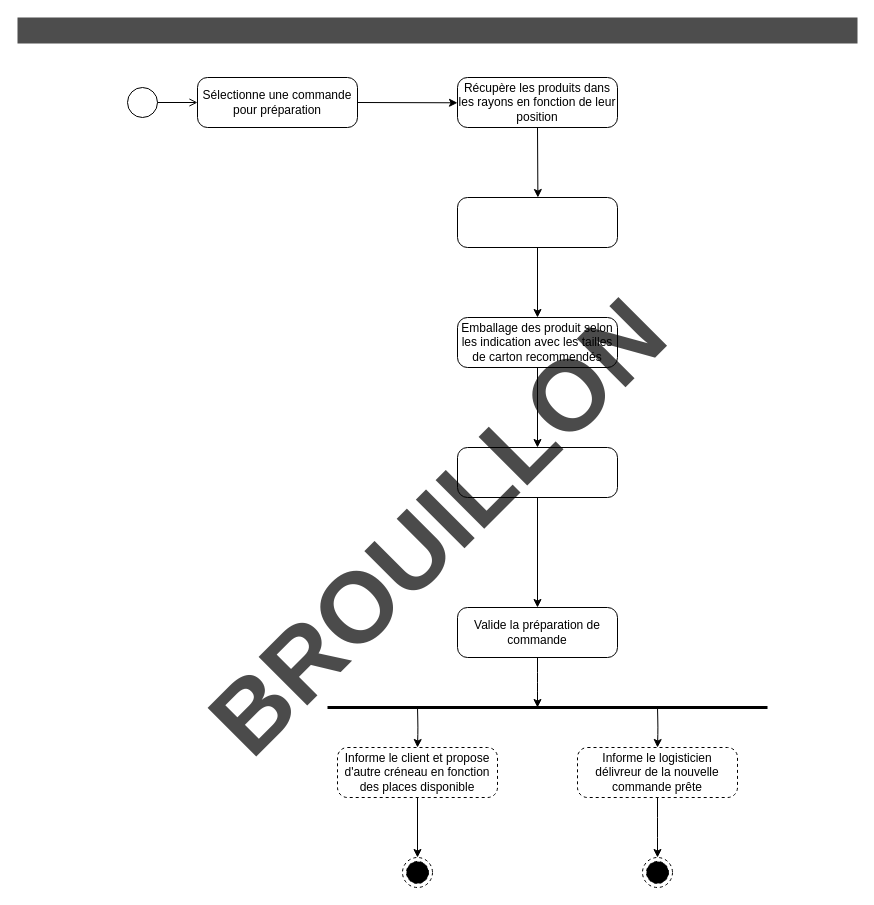
Image size: 874x905. Some labels were removed from this diagram. Each missing label, with the box of its shape:
Diagramme d'activité - Préparation de commande par un logisticien préparateur: (17, 17, 857, 43)
Range la commande en zone de MAD à l'emplacement indiqué: (456, 446, 618, 498)
Valide la récupération produit par produit: (456, 196, 618, 248)
